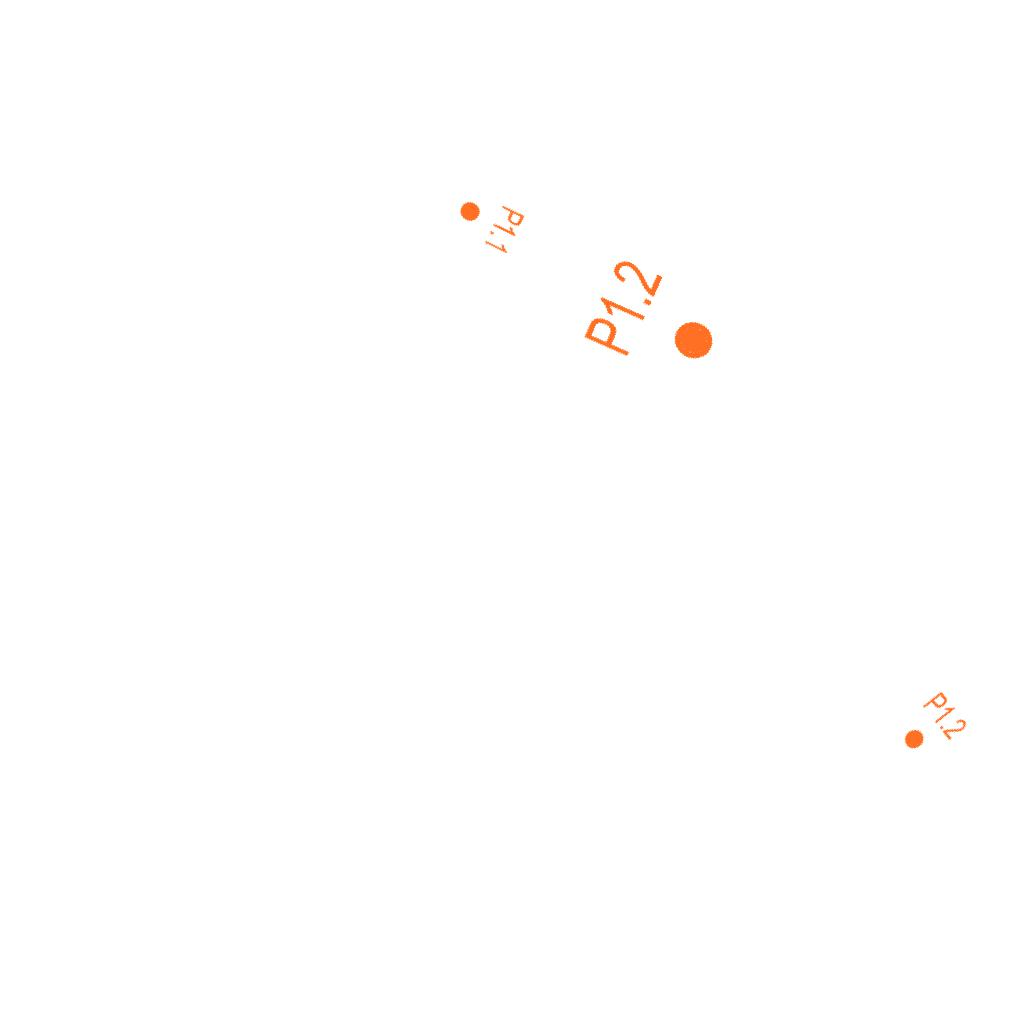Downlight_LED_Einbauleuchten_Flur: (579, 253, 734, 391), (891, 689, 971, 765), (449, 187, 527, 257)
